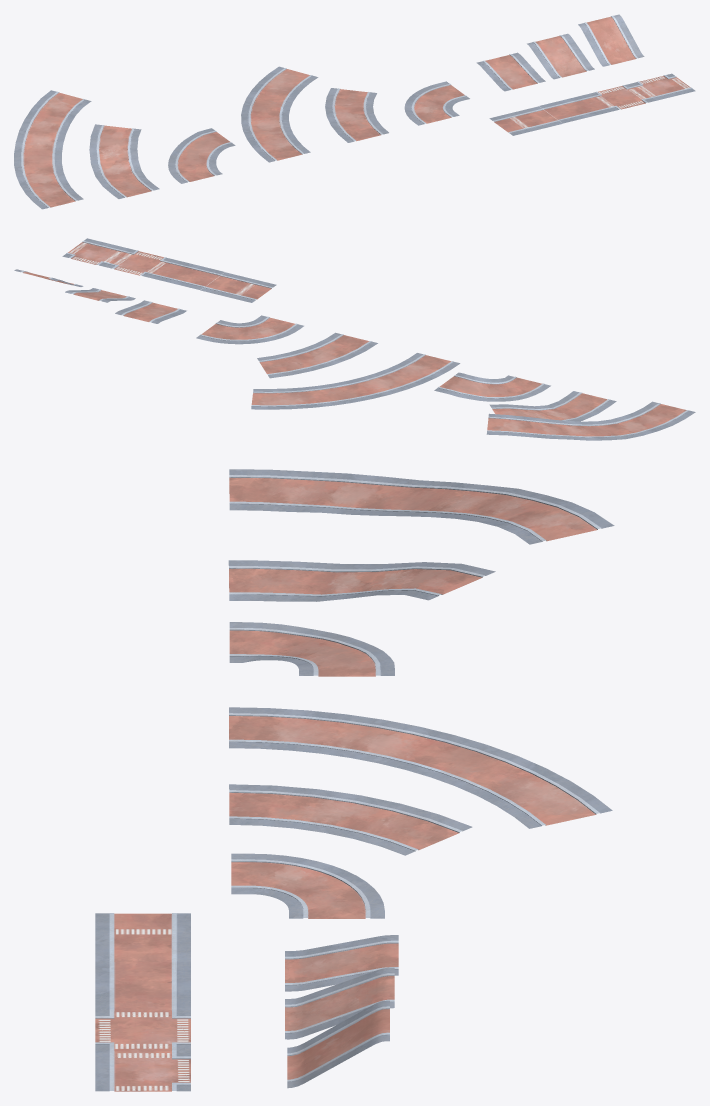
The model's file is route1.fbx.
The picture shows the model from 3 angles, top to bottom: view 1: azimuth 30°, elevation 25°; view 2: azimuth 150°, elevation 25°; view 3: azimuth 270°, elevation 25°; orthographic projection. The views are drawn at different scales.
Parts seen in each view (by area): view 1: route test 2.014, route test 2.005, route test 2.013, route test 2.009, route test 2.012, route test 2.006, route test 2.001, route test 2.008, route test 2.010, route test 2.017, route test 2.003, route test 2.016 (+1 smaller); view 2: route test 2.005, route test 2.014, route test 2.009, route test 2.012, route test 2.013, route test 2.001, route test 2.003, route test 2.017, route test 2.007, route test 2.016, route test 2.010, route test 2.008; view 3: route test 2.005, route test 2.014, route test 2.009, route test 2.013, route test 2.001, route test 2.012, route test 2.017, route test 2.003, route test 2.010, route test 2.008, route test 2.006, route test 2.016 (+1 smaller).
Boxes of the visible parts, bbox=[...] form: route test 2.014: bbox=[14, 90, 91, 209]; route test 2.005: bbox=[241, 66, 318, 162]; route test 2.013: bbox=[89, 124, 159, 198]; route test 2.009: bbox=[325, 88, 388, 142]; route test 2.012: bbox=[168, 128, 235, 183]; route test 2.006: bbox=[578, 14, 644, 66]; route test 2.001: bbox=[404, 81, 469, 125]; route test 2.008: bbox=[527, 33, 594, 79]; route test 2.010: bbox=[476, 52, 545, 91]; route test 2.017: bbox=[539, 94, 612, 123]; route test 2.003: bbox=[489, 106, 562, 135]; route test 2.016: bbox=[589, 83, 653, 111]; route test 2.005: bbox=[251, 353, 460, 409]; route test 2.014: bbox=[486, 401, 695, 440]; route test 2.009: bbox=[257, 332, 377, 378]; route test 2.012: bbox=[434, 372, 550, 401]; route test 2.013: bbox=[489, 391, 616, 421]; route test 2.001: bbox=[196, 315, 303, 344]; route test 2.003: bbox=[200, 272, 276, 302]; route test 2.017: bbox=[149, 259, 224, 289]; route test 2.007: bbox=[62, 238, 129, 266]; route test 2.016: bbox=[106, 249, 172, 277]; route test 2.010: bbox=[115, 300, 186, 323]; route test 2.008: bbox=[65, 288, 135, 302]; route test 2.005: bbox=[229, 707, 612, 828]; route test 2.014: bbox=[229, 469, 614, 544]; route test 2.009: bbox=[229, 784, 472, 855]; route test 2.013: bbox=[228, 560, 495, 601]; route test 2.001: bbox=[231, 853, 384, 918]; route test 2.012: bbox=[229, 622, 394, 676]; route test 2.017: bbox=[95, 961, 190, 1010]; route test 2.003: bbox=[95, 913, 190, 961]; route test 2.010: bbox=[285, 935, 398, 991]; route test 2.008: bbox=[285, 967, 394, 1039]; route test 2.006: bbox=[287, 1000, 389, 1088]; route test 2.016: bbox=[95, 1009, 190, 1051].
Bounding box in the file's own units: 7461 × 369 × 2707.
